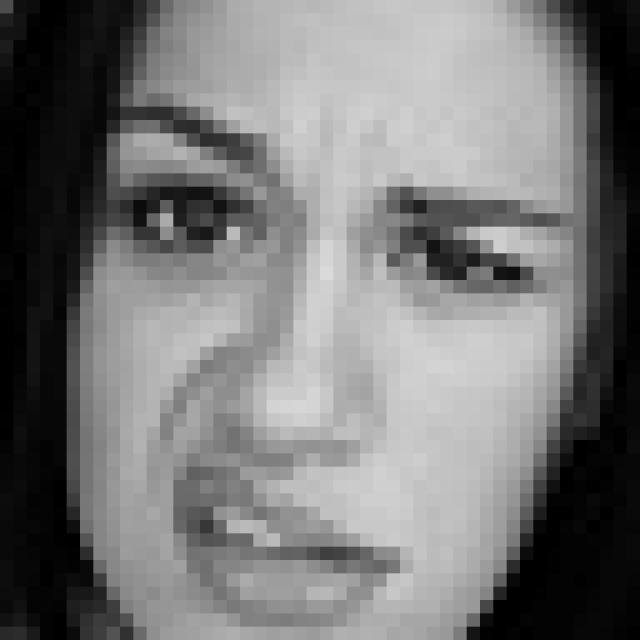disgust: (100, 93, 574, 629)
